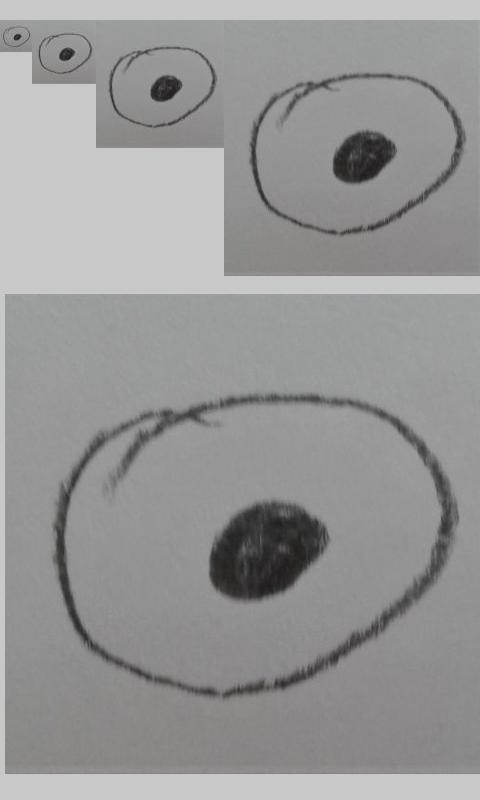radio_button: (51, 391, 460, 701), (247, 70, 465, 237), (108, 46, 217, 128), (37, 32, 94, 75), (2, 25, 31, 48)
